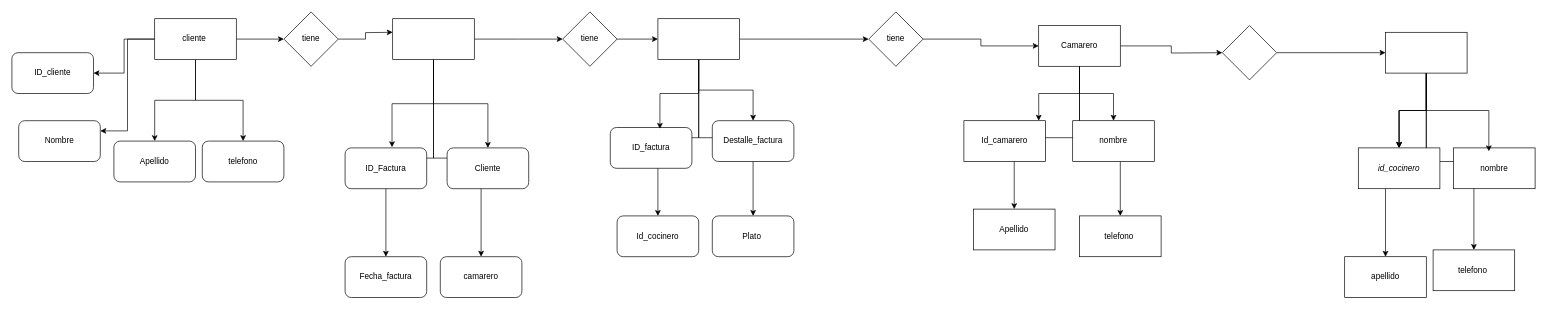
Image size: 1547x309. Some labels were removed from this diagram. Here are the shapes that lost their labels. From the top down, the centre of each, then its label:
point 433,39: factura
point 698,39: Detalles_factura
point 1249,52: ES
point 1426,52: Cocinero
